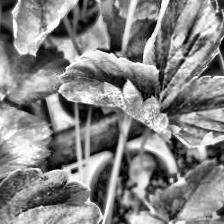Powdery Mildew Leaf: (55, 48, 172, 144), (143, 0, 224, 108), (0, 168, 103, 224), (161, 75, 224, 149), (4, 0, 84, 58)
